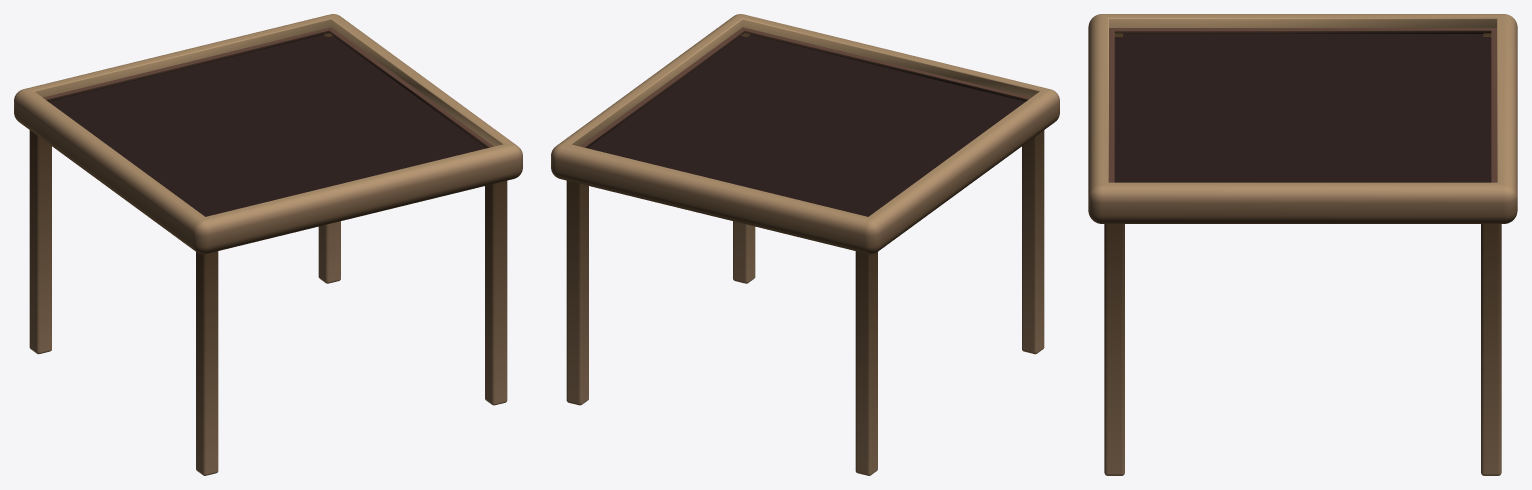
The model's file is tabletop_Map.fbx.
3 views of the same model, side by side, from view 1: azimuth 30°, elevation 25°; view 2: azimuth 150°, elevation 25°; view 3: azimuth 270°, elevation 25° (orthographic). The views are drawn at different scales.
Visible parts, largest first — view 1: table_GEO; view 2: table_GEO; view 3: table_GEO.
Boxes of the visible parts, x1,y1,x2,y2 form: table_GEO: (14,14,522,475); table_GEO: (551,14,1059,475); table_GEO: (1088,14,1517,475).
Size of the model in its own units: 3422 by 2575 by 3422.
